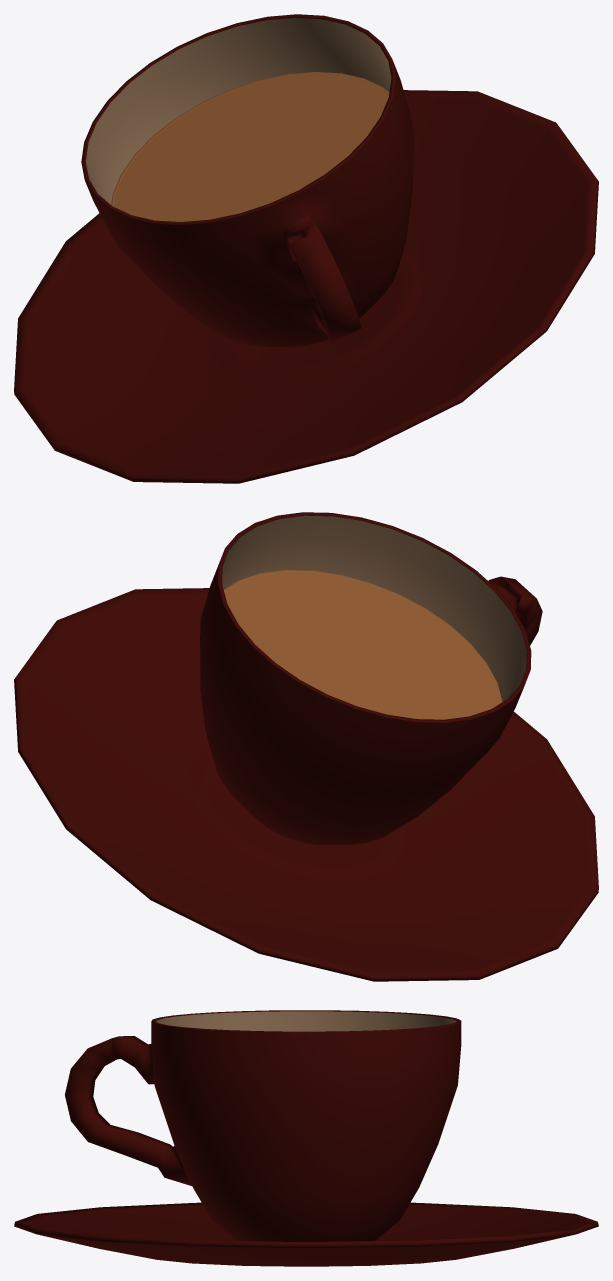
File: cup.glb
3 renders of one model, top to bottom at view 1: azimuth 30°, elevation 25°; view 2: azimuth 150°, elevation 25°; view 3: azimuth 270°, elevation 25°, orthographic. The views are drawn at different scales.
Visible parts, largest first — view 1: plate, cup, tea; view 2: plate, cup, tea; view 3: cup, plate.
Part boxes in pixels (box(x1,y1,x2,y2)): plate: box(14, 90, 598, 483); cup: box(81, 14, 413, 347); tea: box(111, 72, 389, 221); plate: box(14, 588, 598, 981); cup: box(200, 512, 542, 844); tea: box(223, 570, 502, 719); cup: box(65, 1010, 461, 1241); plate: box(14, 1202, 598, 1266).
Bounding box in the file's own units: 0.2099 × 0.1353 × 0.2246.
